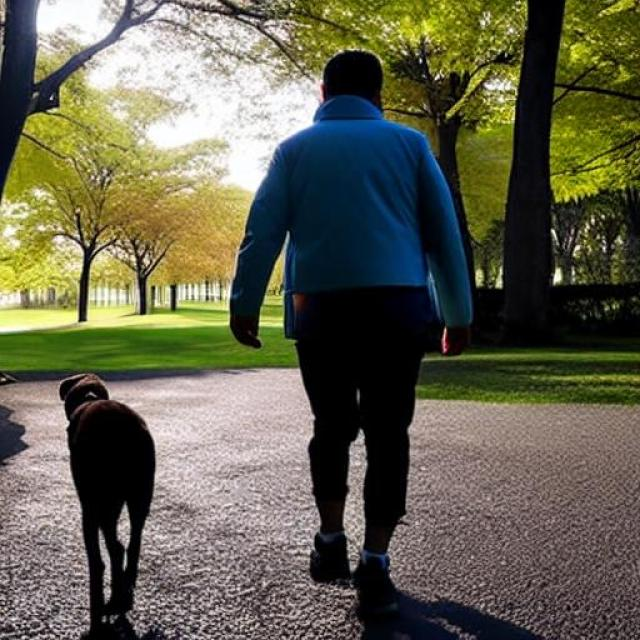Unleashed_Dog: (58, 288, 431, 620)
